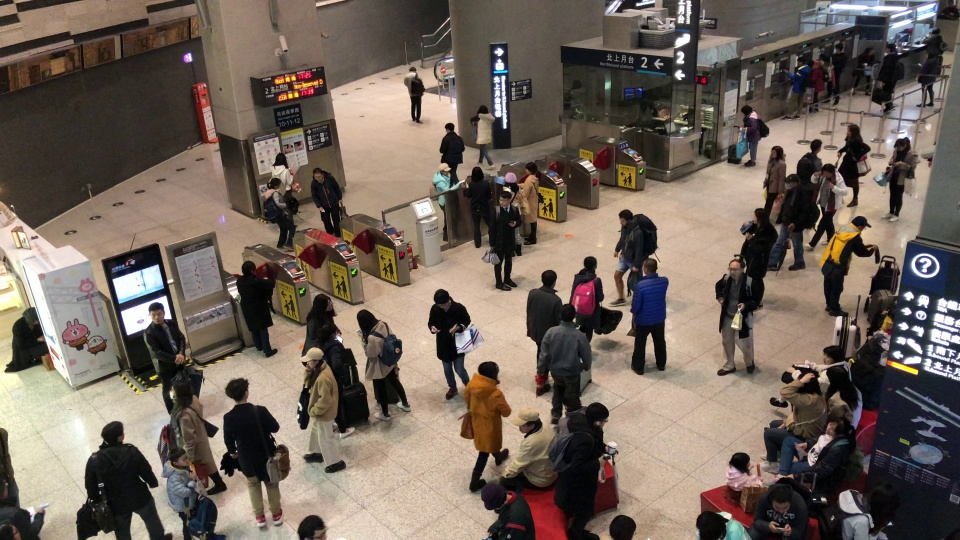person_head: (869, 483, 901, 515), (696, 508, 726, 539), (512, 406, 539, 434), (608, 513, 637, 539), (297, 514, 325, 540), (480, 483, 506, 510), (224, 377, 250, 402), (770, 486, 792, 515), (826, 365, 851, 390), (797, 372, 822, 396), (100, 420, 125, 443), (587, 401, 609, 427), (825, 416, 853, 436), (169, 379, 192, 403), (301, 346, 324, 368), (356, 308, 378, 330), (169, 445, 190, 466), (822, 344, 844, 364), (477, 360, 498, 380), (730, 451, 751, 470), (147, 301, 165, 323), (728, 258, 746, 279), (313, 294, 333, 311), (433, 288, 450, 308), (541, 268, 558, 288), (559, 302, 576, 321), (752, 206, 769, 224), (616, 208, 634, 225), (563, 394, 582, 410), (22, 307, 39, 324), (642, 257, 658, 275), (852, 215, 870, 230), (523, 160, 538, 176), (894, 136, 909, 152), (784, 173, 799, 189), (498, 190, 511, 208), (323, 324, 338, 339), (769, 144, 784, 159), (845, 123, 861, 137), (821, 162, 835, 178), (582, 255, 598, 269), (809, 137, 822, 154), (241, 260, 256, 274), (471, 165, 484, 180), (274, 152, 287, 166), (269, 176, 281, 190), (439, 161, 451, 175), (505, 172, 517, 185), (884, 43, 896, 54), (927, 45, 938, 57), (444, 121, 455, 132), (477, 104, 488, 115), (741, 105, 752, 116), (313, 168, 322, 181), (833, 42, 843, 53), (865, 45, 875, 55), (796, 55, 805, 65), (931, 24, 941, 33), (409, 66, 416, 72), (809, 59, 813, 66)
person_vbox: (84, 420, 172, 540), (222, 377, 283, 528), (547, 401, 610, 540), (761, 415, 865, 490), (755, 371, 828, 474), (534, 302, 592, 424), (763, 364, 863, 432), (169, 379, 227, 495), (356, 308, 413, 423), (818, 215, 880, 318), (463, 360, 509, 493), (161, 446, 226, 540), (300, 346, 347, 473), (714, 259, 764, 377), (769, 344, 851, 409), (605, 208, 658, 307), (498, 405, 558, 491), (142, 301, 187, 415), (426, 288, 471, 399), (767, 173, 818, 270), (629, 257, 670, 375), (525, 269, 563, 396), (818, 482, 901, 540), (317, 323, 356, 440), (738, 207, 779, 311), (235, 260, 278, 357), (803, 162, 848, 249), (747, 482, 809, 540), (488, 190, 522, 291), (878, 136, 917, 222), (480, 482, 537, 539), (568, 254, 604, 344), (836, 123, 871, 210), (300, 294, 341, 366), (4, 306, 48, 373), (263, 177, 297, 251), (310, 167, 344, 238), (465, 166, 494, 248), (432, 161, 461, 242), (779, 55, 813, 121), (762, 144, 788, 225), (736, 104, 769, 167), (502, 171, 525, 257), (517, 161, 540, 245), (876, 43, 903, 112), (470, 105, 497, 170), (820, 43, 847, 108), (915, 44, 942, 109), (439, 121, 466, 185), (725, 451, 763, 492), (850, 44, 878, 96), (795, 138, 823, 186), (402, 66, 425, 124), (806, 58, 828, 115), (556, 395, 586, 432), (271, 152, 294, 195), (921, 24, 946, 55)
